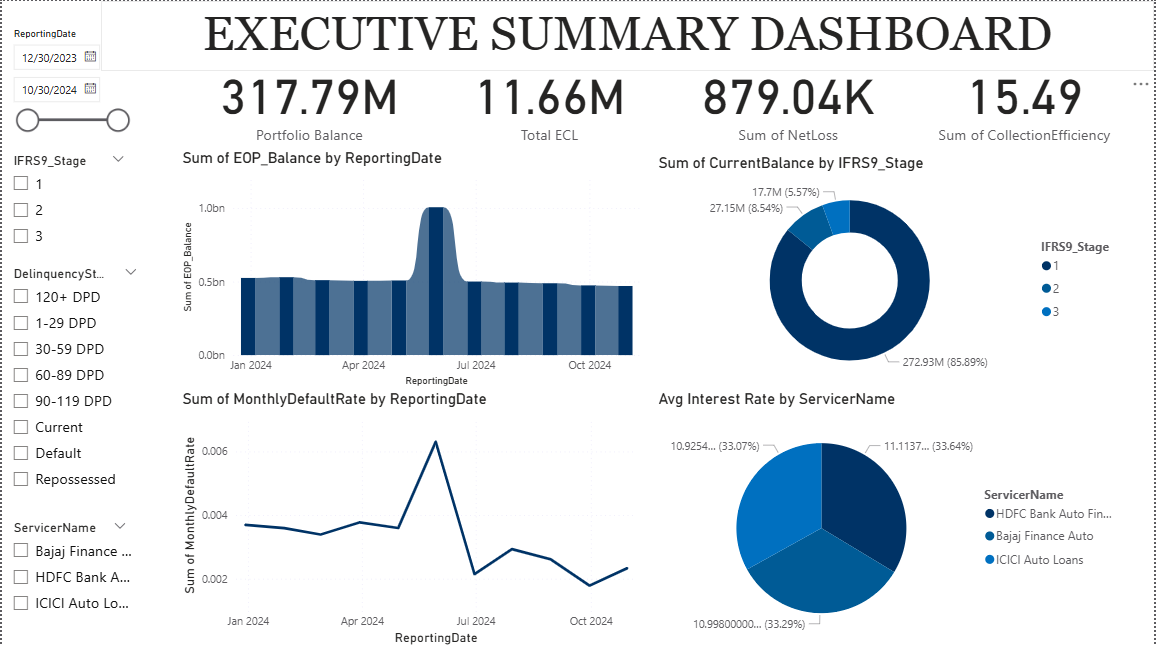

This screenshot's page, from the dashboard's own definition file:
{"tool":"powerbi","page":{"name":"EXECUTIVE SUMMARY DASHBOARD","canvas":[1280,720],"ordinal":2},"visuals":[{"type":"slicer","fields":{"Values":["auto_loan_securitisation_data.IFRS9_Stage"]},"box":[0,164,148,126],"z":0},{"type":"slicer","fields":{"Values":["auto_loan_securitisation_data.DelinquencyStatus"]},"box":[0,290,162,282],"z":1000},{"type":"slicer","fields":{"Values":["dynamic_loss_monthly.ReportingDate"]},"box":[0,24,150,140],"z":2000},{"type":"slicer","fields":{"Values":["auto_loan_securitisation_data.ServicerName"]},"box":[0,572,150,148],"z":3000},{"type":"card","fields":{"Values":["auto_loan_securitisation_data.Portfolio Balance"]},"box":[226,50,232,120],"z":4000},{"type":"card","fields":{"Values":["auto_loan_securitisation_data.Total ECL"]},"box":[492,50,232,120],"z":5000},{"type":"card","fields":{"Values":["Sum(auto_loan_securitisation_data.NetLoss)"]},"box":[758,50,232,120],"z":6000},{"type":"card","fields":{"Values":["Sum(dynamic_loss_monthly.CollectionEfficiency)"]},"box":[1020,50,232,120],"z":7000},{"type":"ribbonChart","fields":{"Category":["dynamic_loss_monthly.ReportingDate"],"Y":["Sum(dynamic_loss_monthly.EOP_Balance)"]},"box":[196,164,528,268],"z":8000},{"type":"donutChart","fields":{"Category":["auto_loan_securitisation_data.IFRS9_Stage"],"Y":["Sum(auto_loan_securitisation_data.CurrentBalance)"]},"box":[724,170,528,262],"z":9000},{"type":"lineChart","fields":{"Category":["dynamic_loss_monthly.ReportingDate"],"Y":["Sum(dynamic_loss_monthly.MonthlyDefaultRate)"]},"box":[196,432,528,288],"z":10000},{"type":"pieChart","fields":{"Category":["auto_loan_securitisation_data.ServicerName"],"Y":["auto_loan_securitisation_data.Avg Interest Rate"]},"box":[724,432,528,288],"z":11000},{"type":"textbox","box":[110,0,1170,78],"z":12000}]}

Visuals, with their boxes in screenshot pixels (x1, y1, x2, y2), scaled from the page's 1280x720 canvas onto the 1156x646 screenshot:
slicer - auto_loan_securitisation_data.IFRS9_Stage: (x1=0, y1=147, x2=134, y2=260)
slicer - auto_loan_securitisation_data.DelinquencyStatus: (x1=0, y1=260, x2=146, y2=513)
slicer - dynamic_loss_monthly.ReportingDate: (x1=0, y1=22, x2=135, y2=147)
slicer - auto_loan_securitisation_data.ServicerName: (x1=0, y1=513, x2=135, y2=645)
card - auto_loan_securitisation_data.Portfolio Balance: (x1=204, y1=45, x2=414, y2=153)
card - auto_loan_securitisation_data.Total ECL: (x1=444, y1=45, x2=654, y2=153)
card - Sum(auto_loan_securitisation_data.NetLoss): (x1=685, y1=45, x2=894, y2=153)
card - Sum(dynamic_loss_monthly.CollectionEfficiency): (x1=921, y1=45, x2=1131, y2=153)
ribbonChart - dynamic_loss_monthly.ReportingDate x Sum(dynamic_loss_monthly.EOP_Balance): (x1=177, y1=147, x2=654, y2=388)
donutChart - auto_loan_securitisation_data.IFRS9_Stage x Sum(auto_loan_securitisation_data.CurrentBalance): (x1=654, y1=153, x2=1131, y2=388)
lineChart - dynamic_loss_monthly.ReportingDate x Sum(dynamic_loss_monthly.MonthlyDefaultRate): (x1=177, y1=388, x2=654, y2=645)
pieChart - auto_loan_securitisation_data.ServicerName x auto_loan_securitisation_data.Avg Interest Rate: (x1=654, y1=388, x2=1131, y2=645)
textbox: (x1=99, y1=0, x2=1155, y2=70)
